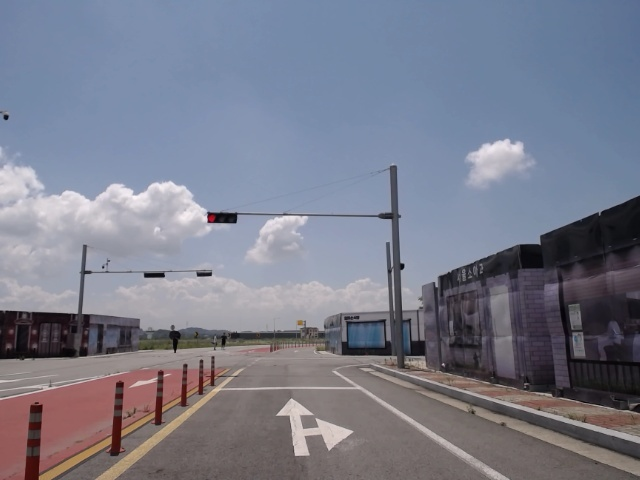red_3: (206, 212, 239, 224)
